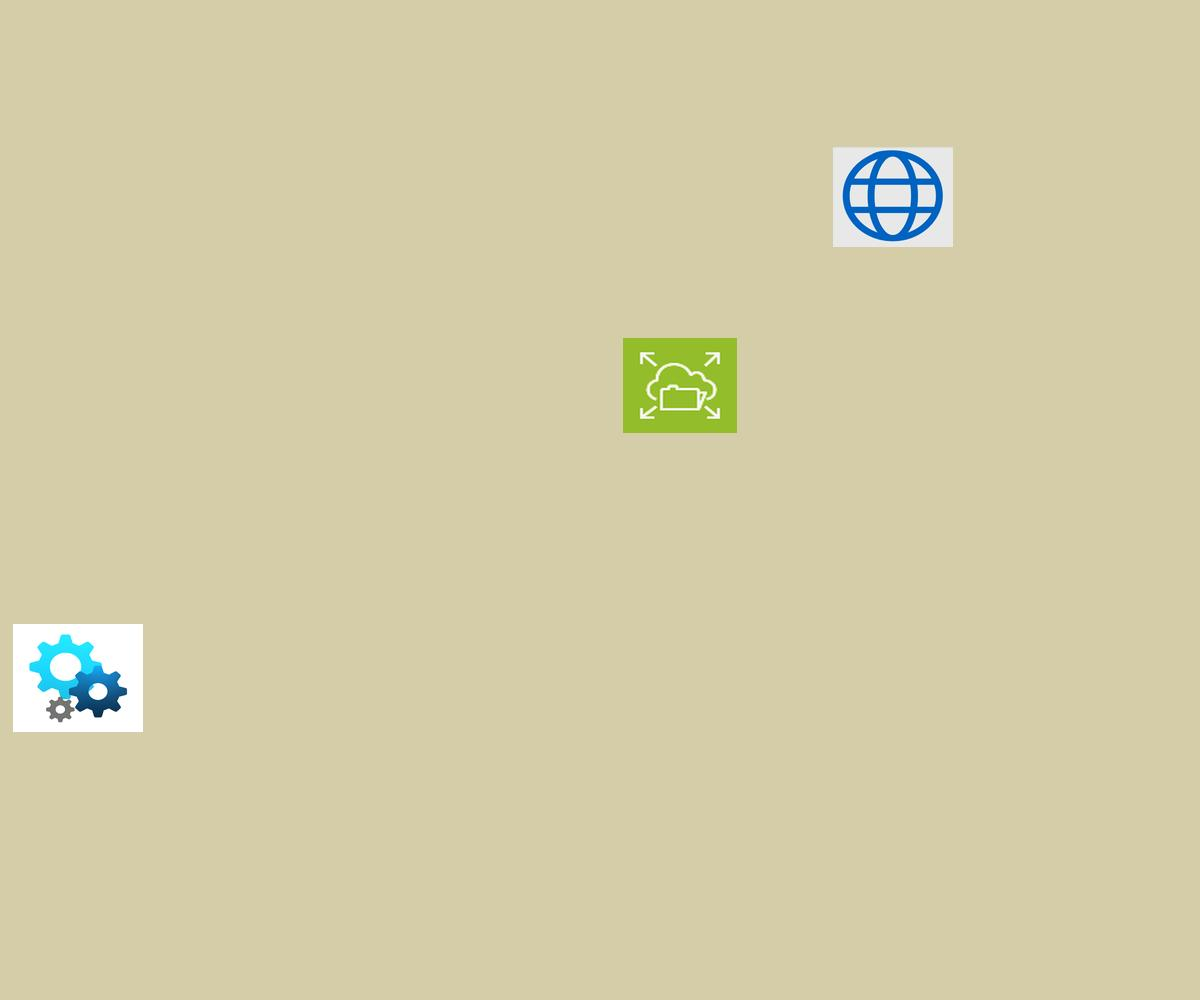AWS-EFS: (623, 338, 737, 433)
Azure_api: (13, 624, 143, 732)
Azure_http: (833, 147, 953, 247)
